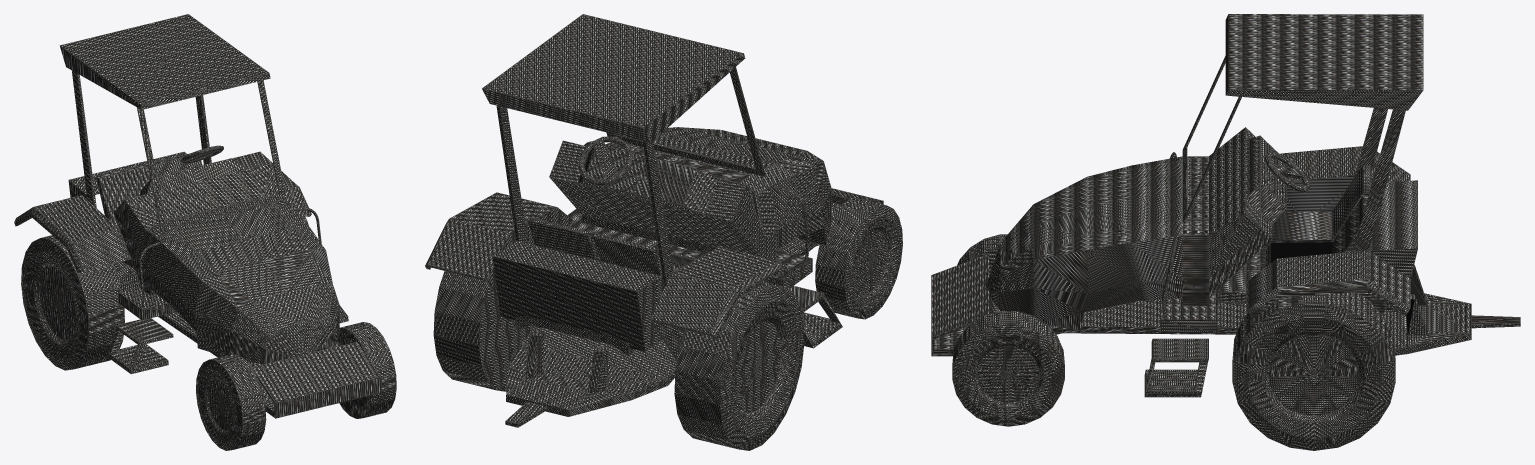
Rendered from TRATOR.gltf.
3 renders of one model, left to right at view 1: azimuth 30°, elevation 25°; view 2: azimuth 150°, elevation 25°; view 3: azimuth 270°, elevation 25°, orthographic. The views are drawn at different scales.
Visible parts, largest first — view 1: node1; view 2: node1; view 3: node1.
Boxes of the visible parts, left/top/right/bottom form: node1: left=14, top=14, right=396, bottom=450; node1: left=425, top=14, right=902, bottom=450; node1: left=931, top=14, right=1520, bottom=450.
Bounding box in the file's own units: 2.29 × 2.57 × 4.14.
